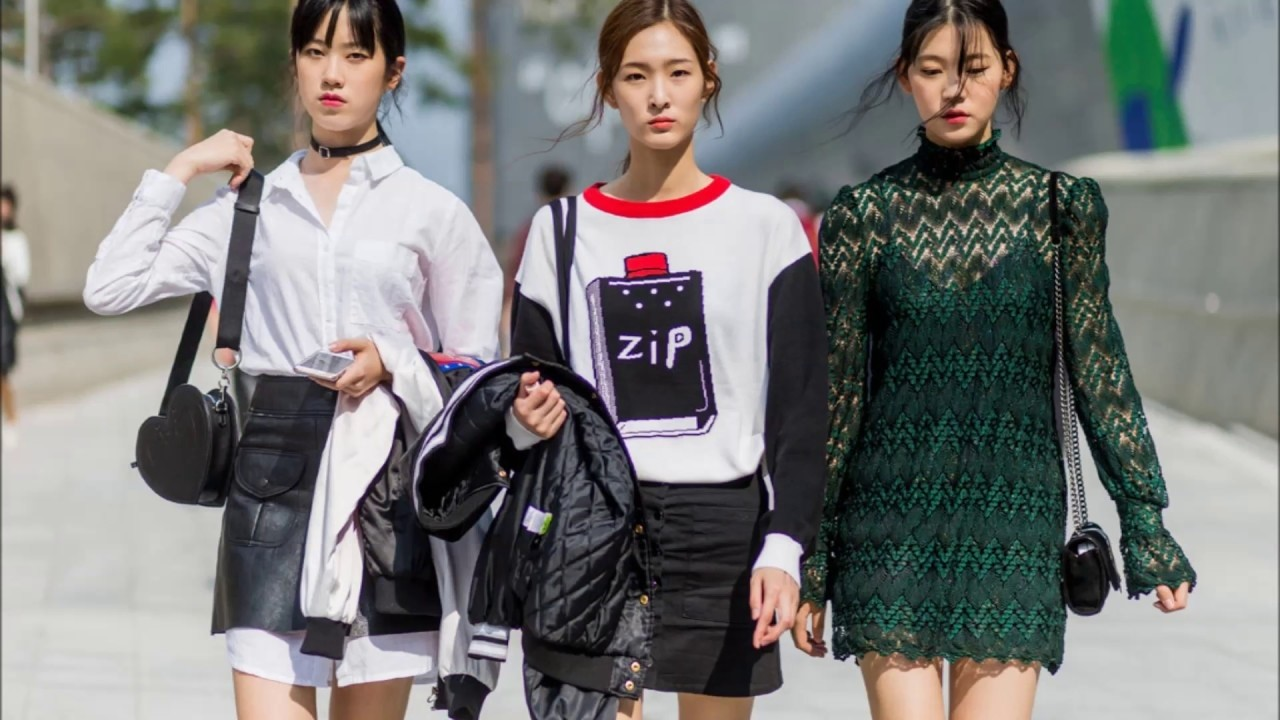face_no_mask: (593, 6, 719, 154), (898, 6, 1017, 147), (292, 2, 405, 145)
